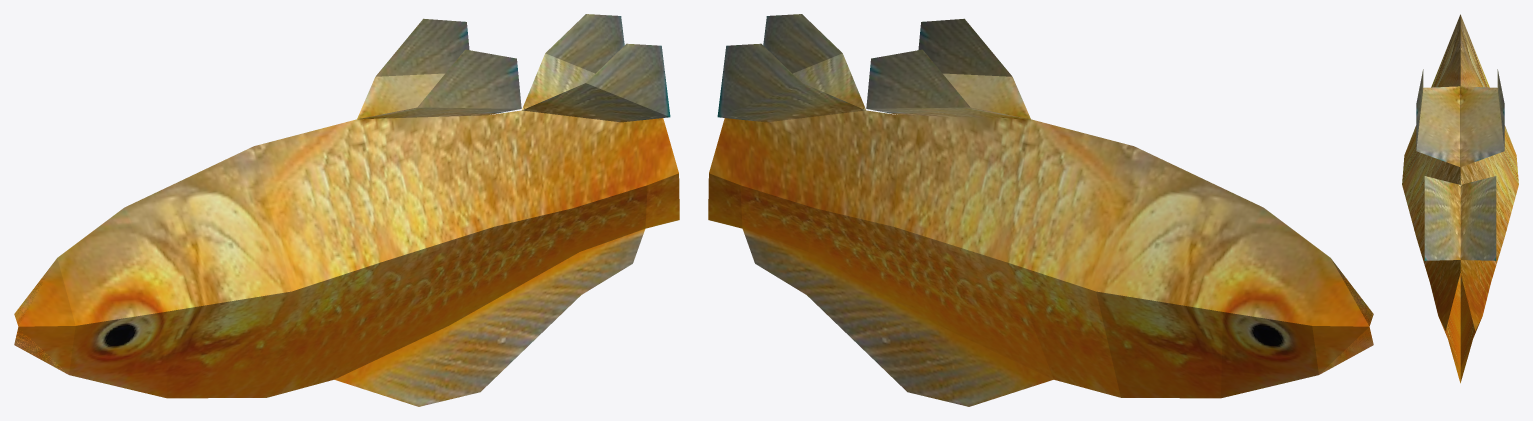
Rendered from goldfish-body.obj.
3 views of the same model, side by side, from view 1: azimuth 30°, elevation 25°; view 2: azimuth 150°, elevation 25°; view 3: azimuth 270°, elevation 25° (orthographic). The views are drawn at different scales.
Bounding box in the file's own units: 150 × 79.11 × 25.9.
Materials: 1 (1 with a texture image).
